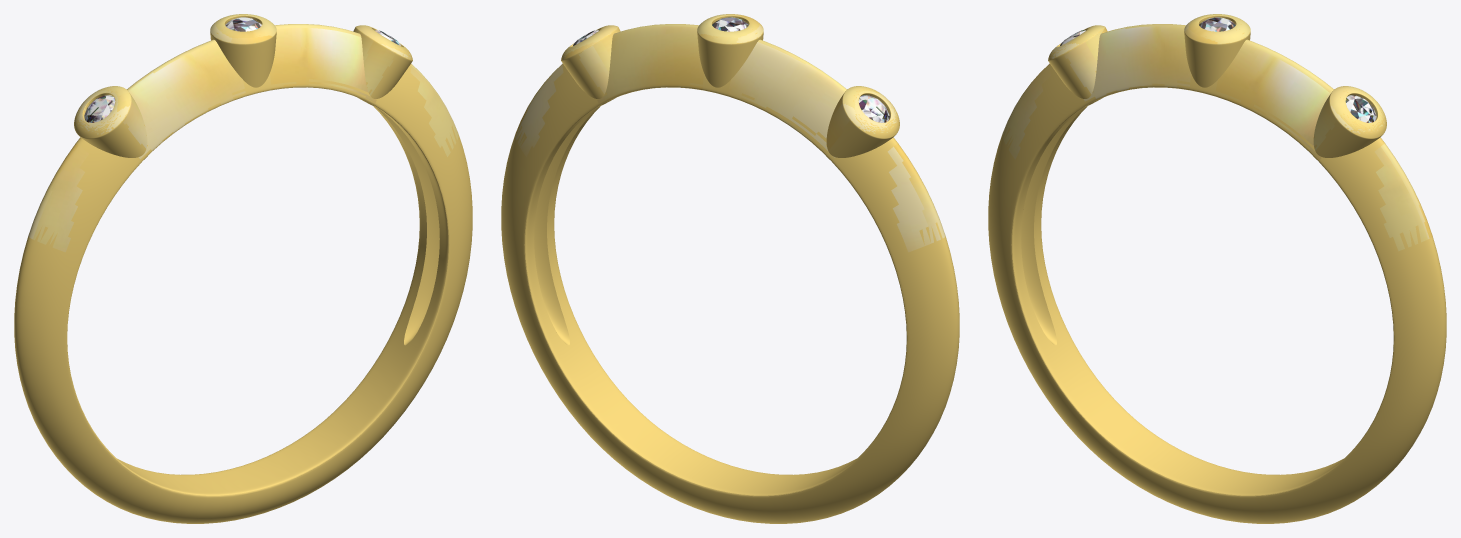
The model's file is demo0.glb.
3 views of the same model, side by side, from view 1: azimuth 30°, elevation 25°; view 2: azimuth 150°, elevation 25°; view 3: azimuth 330°, elevation 25° (orthographic).
Visible parts, largest first — view 1: baoxiang; view 2: baoxiang; view 3: baoxiang.
Part boxes in pixels (box(x1,y1,x2,y2)): baoxiang: box(14, 14, 472, 523); baoxiang: box(501, 14, 959, 523); baoxiang: box(988, 14, 1446, 523).
Size of the model in its own units: 19.85 by 20.52 by 2.51.
4 materials, 4 textured.
